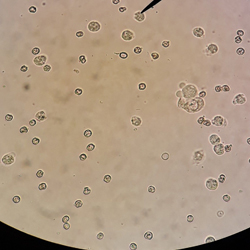RBC: (173, 95, 208, 113), (176, 79, 197, 99), (190, 23, 208, 40), (231, 90, 248, 108), (203, 174, 219, 193), (192, 148, 207, 168), (203, 41, 220, 58), (1, 151, 18, 168), (213, 143, 231, 158), (86, 18, 102, 33), (210, 114, 228, 127), (129, 114, 143, 130), (35, 108, 49, 124), (119, 28, 136, 41), (117, 47, 131, 62), (204, 131, 220, 144), (72, 197, 86, 211), (224, 141, 238, 155), (143, 183, 158, 196), (32, 54, 48, 66), (80, 129, 97, 140), (132, 9, 145, 23), (27, 4, 40, 17), (149, 48, 161, 62), (82, 183, 94, 197), (217, 171, 228, 186), (134, 43, 144, 59), (58, 222, 74, 232), (85, 141, 98, 153), (134, 80, 148, 91), (159, 149, 170, 163), (73, 86, 86, 97), (37, 180, 48, 193), (38, 63, 52, 73), (31, 45, 42, 57), (19, 124, 31, 135), (185, 214, 197, 225), (160, 36, 170, 49), (78, 151, 88, 164), (144, 229, 154, 242), (104, 172, 113, 186), (236, 26, 247, 37), (31, 136, 41, 148), (74, 28, 84, 39), (4, 112, 14, 123), (34, 168, 45, 178), (61, 212, 71, 223), (18, 63, 30, 72), (79, 53, 88, 65), (203, 234, 216, 242), (29, 117, 38, 128), (222, 83, 233, 92), (236, 46, 247, 55), (198, 90, 209, 99), (222, 192, 230, 204), (13, 194, 22, 204), (128, 240, 137, 250), (216, 208, 224, 219), (97, 231, 105, 241), (213, 82, 221, 92), (203, 118, 212, 126), (233, 35, 242, 43), (198, 114, 204, 125), (119, 5, 126, 12), (108, 1, 121, 4)
